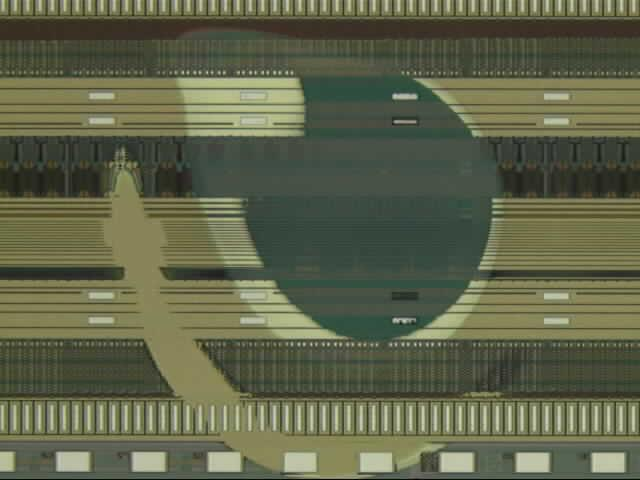BLOCK ETCH: (97, 26, 544, 480)
